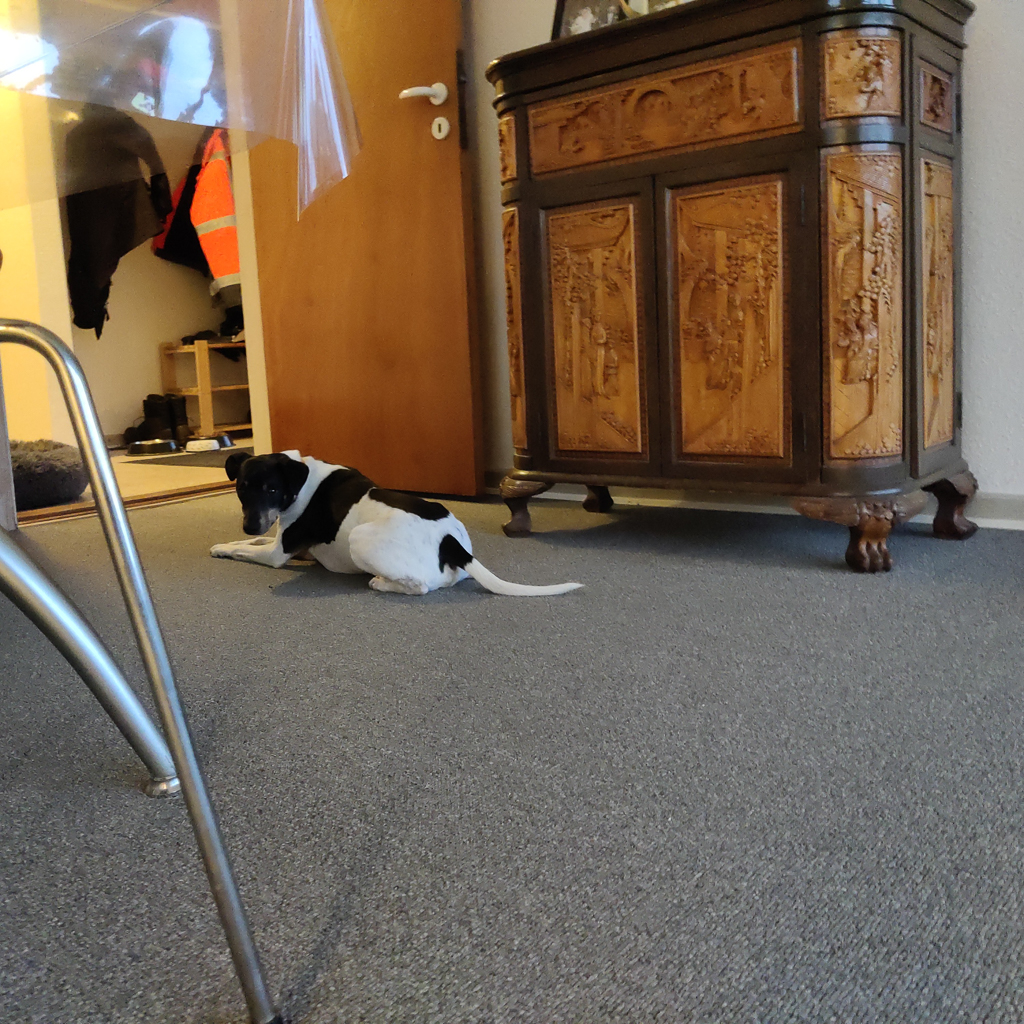Dog: (192, 431, 606, 612)
